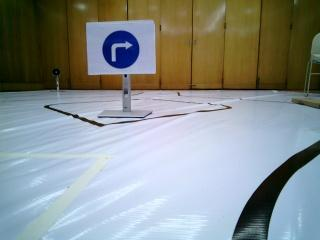right: (86, 22, 155, 74)
